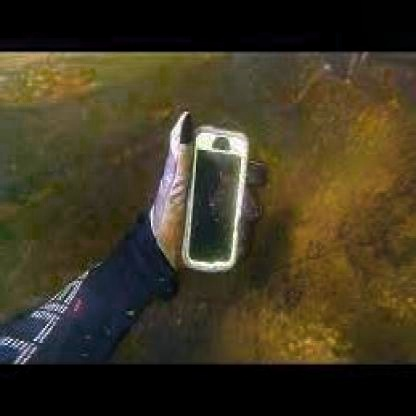cellphone: (184, 124, 250, 276)
